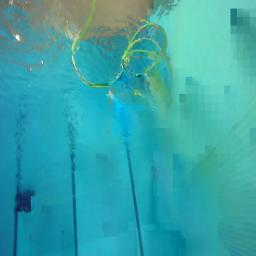Full: (15, 191, 36, 213)
